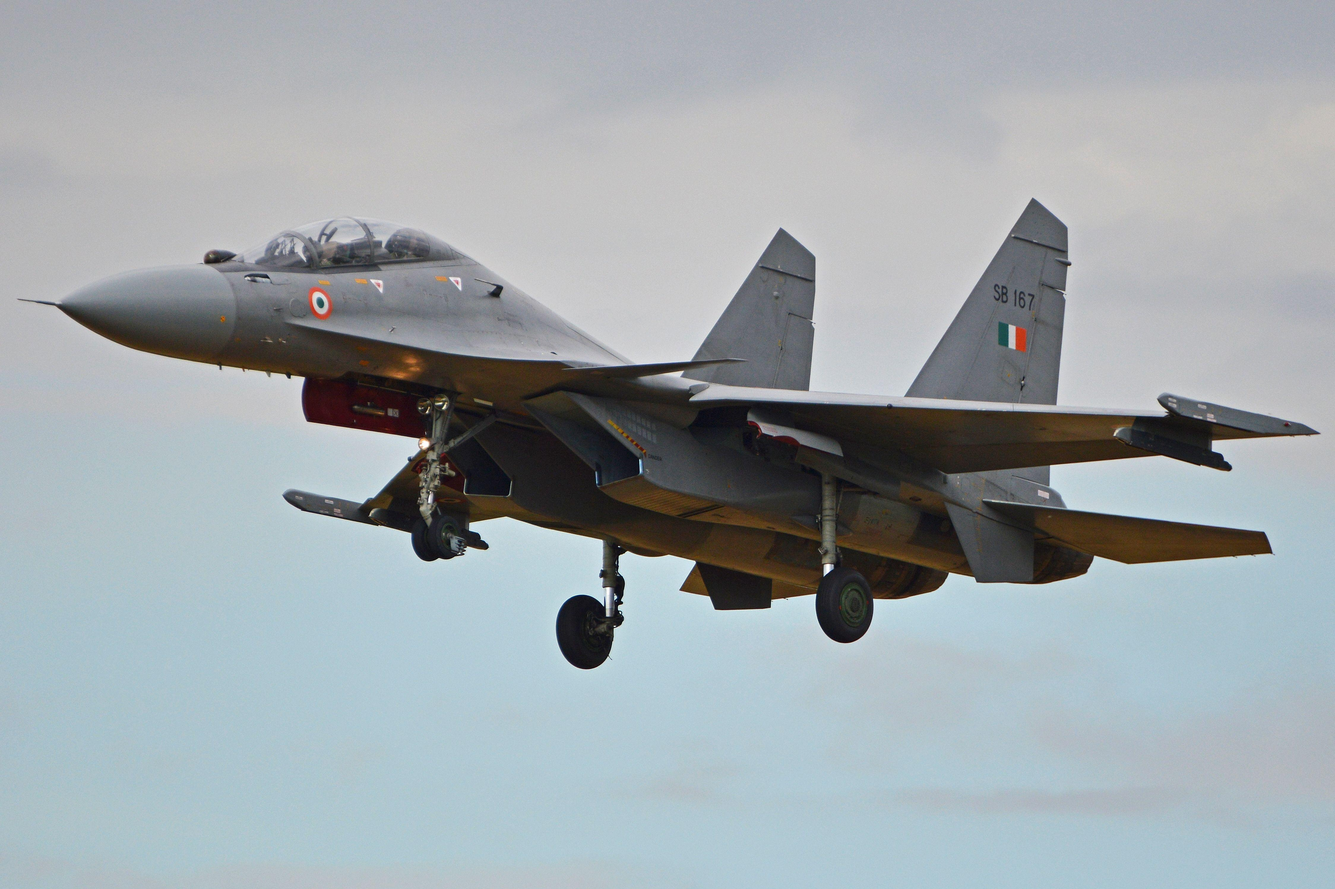aircraft: (44, 195, 1316, 665)
